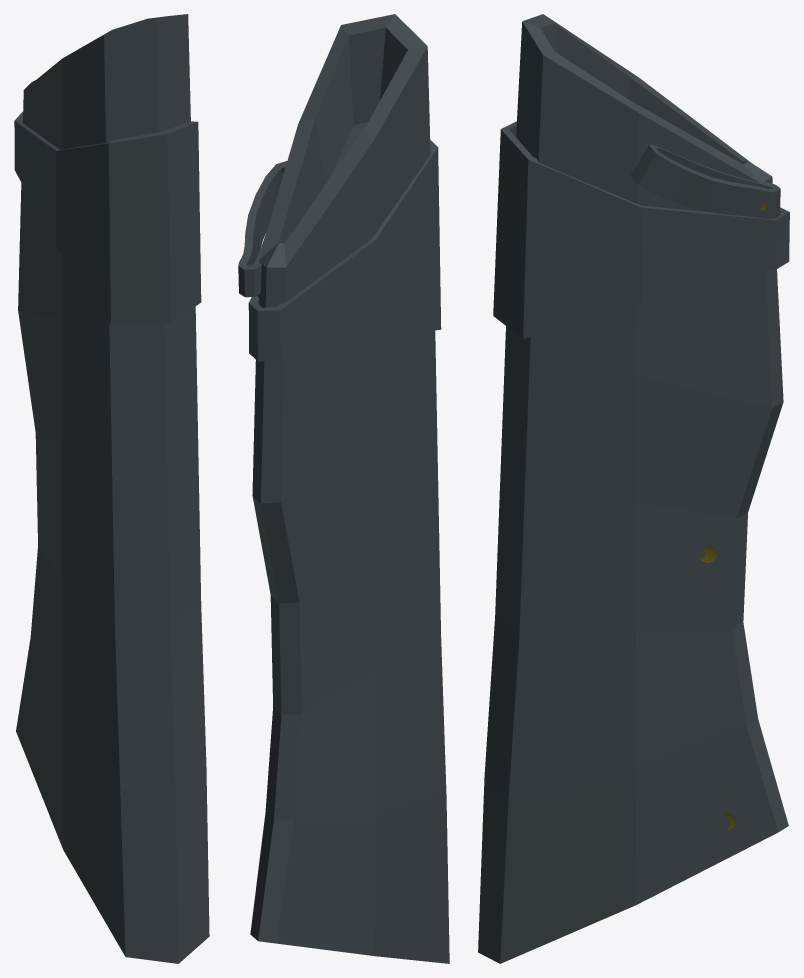
The model's file is Sarung anak panah.fbx.
3 views of the same model, side by side, from view 1: azimuth 30°, elevation 25°; view 2: azimuth 150°, elevation 25°; view 3: azimuth 270°, elevation 25° (orthographic). The views are drawn at different scales.
Visible parts, largest first — view 1: sarung panah; view 2: sarung panah; view 3: sarung panah.
Part boxes in pixels (x1,y1,x2,y2): sarung panah: [14, 14, 209, 963]; sarung panah: [238, 14, 449, 963]; sarung panah: [478, 14, 789, 963].
Bounding box in the file's own units: 6.79 × 62.32 × 18.92.
